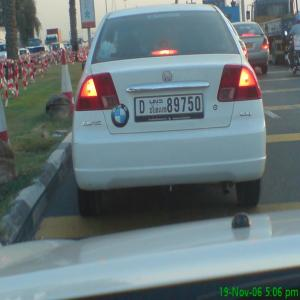Vehicle-registration-plate: (140, 83, 214, 136), (246, 43, 254, 49)
